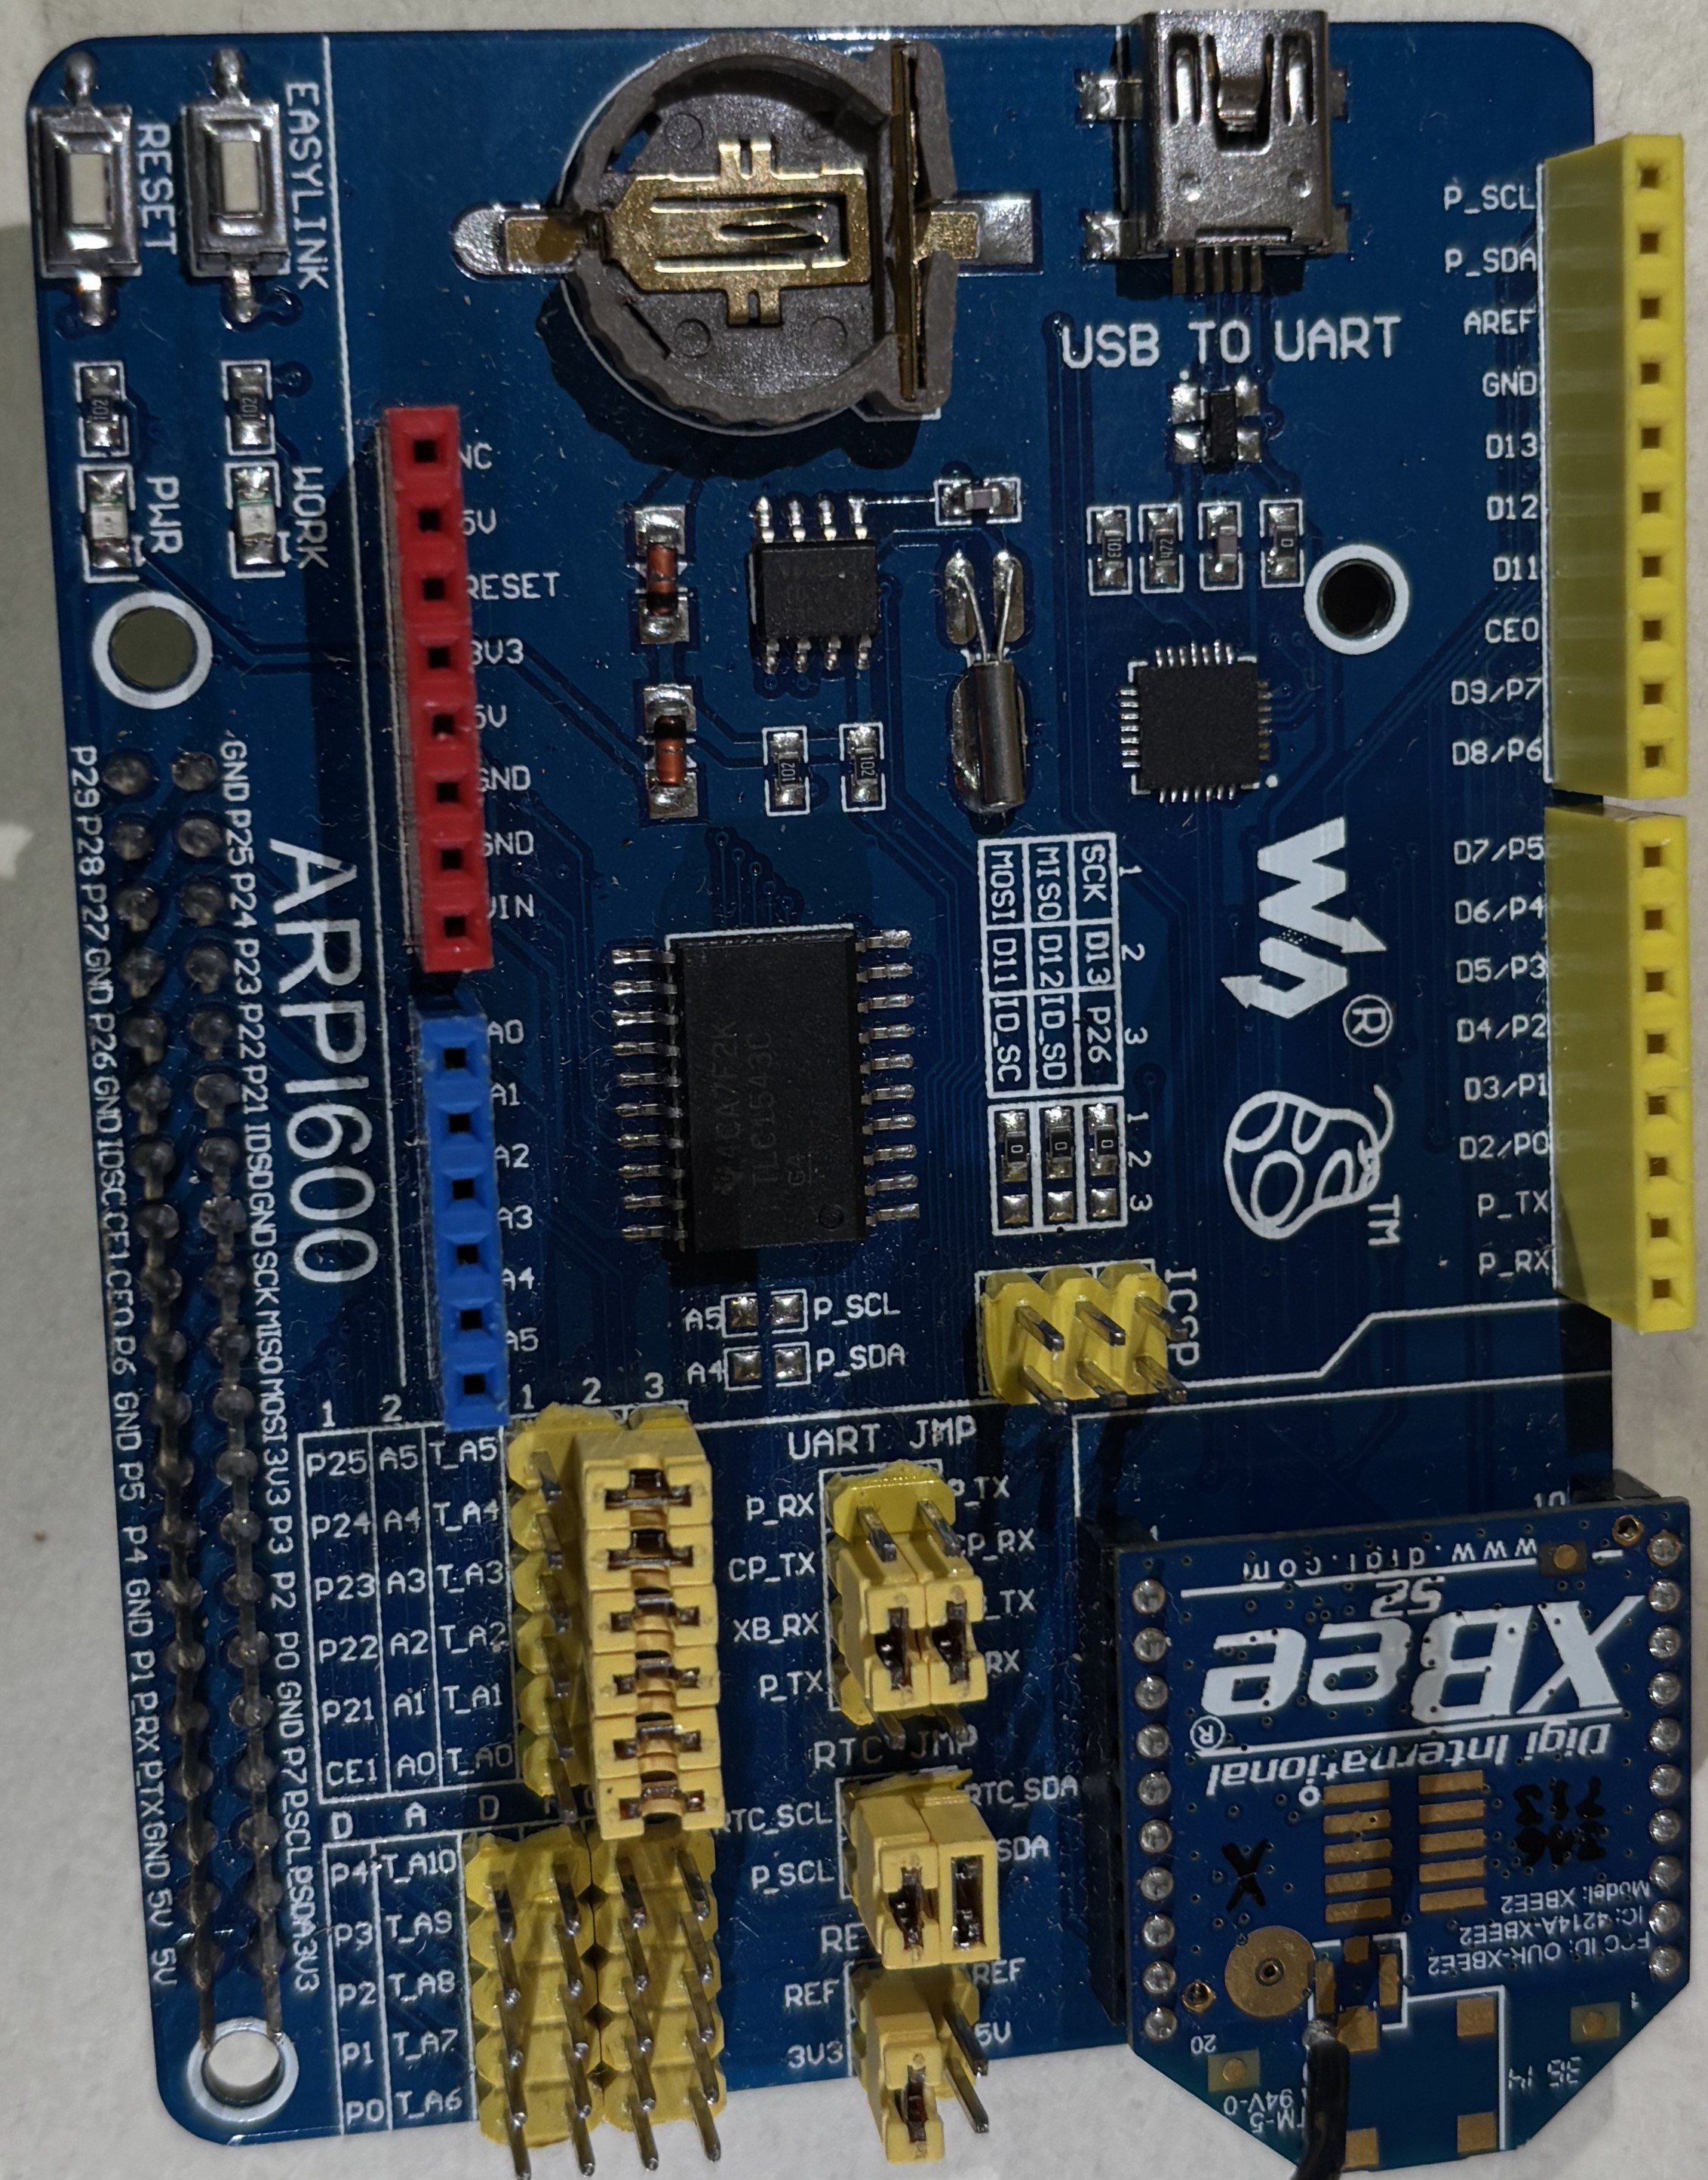jumper: (595, 1768, 729, 1837), (862, 1580, 929, 1711), (588, 1585, 720, 1651), (588, 1651, 722, 1715), (588, 1708, 722, 1771), (876, 1840, 942, 1969), (582, 1462, 712, 1525), (586, 1525, 715, 1587), (940, 1837, 1002, 1964), (880, 2037, 943, 2161), (927, 1575, 988, 1704)
